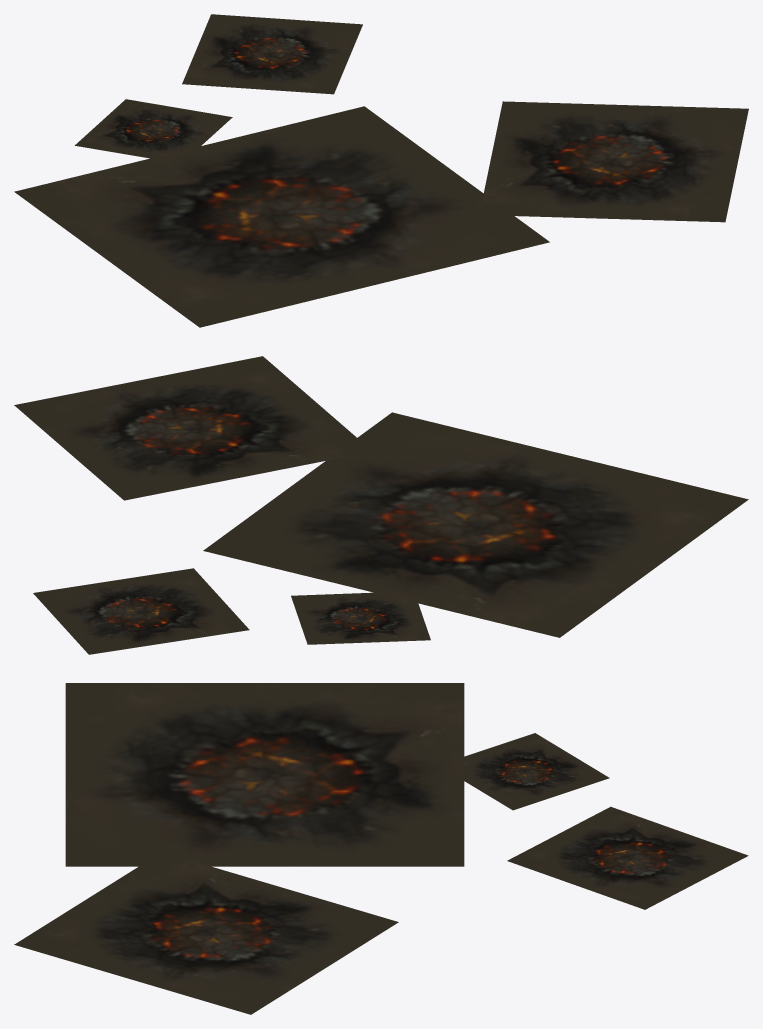
The model's file is crater_01.FBX.
The picture shows the model from 3 angles, top to bottom: view 1: azimuth 30°, elevation 25°; view 2: azimuth 150°, elevation 25°; view 3: azimuth 270°, elevation 25°; orthographic projection. The views are drawn at different scales.
Visible parts, largest first — view 1: crater_01; view 2: crater_01; view 3: crater_01.
Boxes of the visible parts, <box> form: crater_01: <box>14,14,748,327</box>; crater_01: <box>14,356,748,654</box>; crater_01: <box>14,683,748,1014</box>.
Size of the model in its own units: 1188 by 1109 by 3.02.
1 material, 1 textured.
